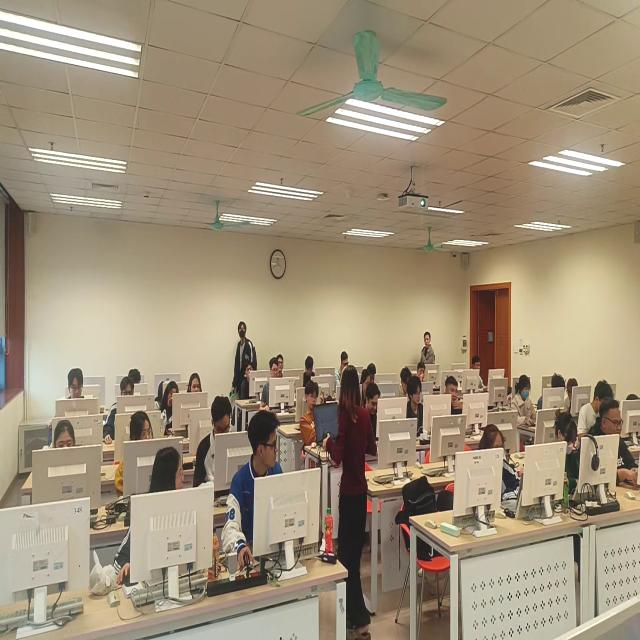raise_head: (117, 416, 157, 498), (301, 381, 323, 451), (190, 372, 208, 410), (416, 361, 435, 387), (277, 353, 286, 374)
stand: (336, 368, 375, 640), (235, 323, 257, 406), (420, 331, 436, 385)
using_computer: (585, 402, 640, 501), (478, 424, 526, 515), (545, 419, 593, 505), (200, 403, 240, 495), (50, 425, 87, 505), (107, 382, 145, 443), (407, 380, 443, 435), (445, 376, 477, 436), (59, 370, 98, 419), (511, 375, 544, 431), (261, 361, 291, 412), (156, 383, 183, 437), (469, 355, 498, 398), (240, 363, 268, 407), (340, 354, 350, 373)
